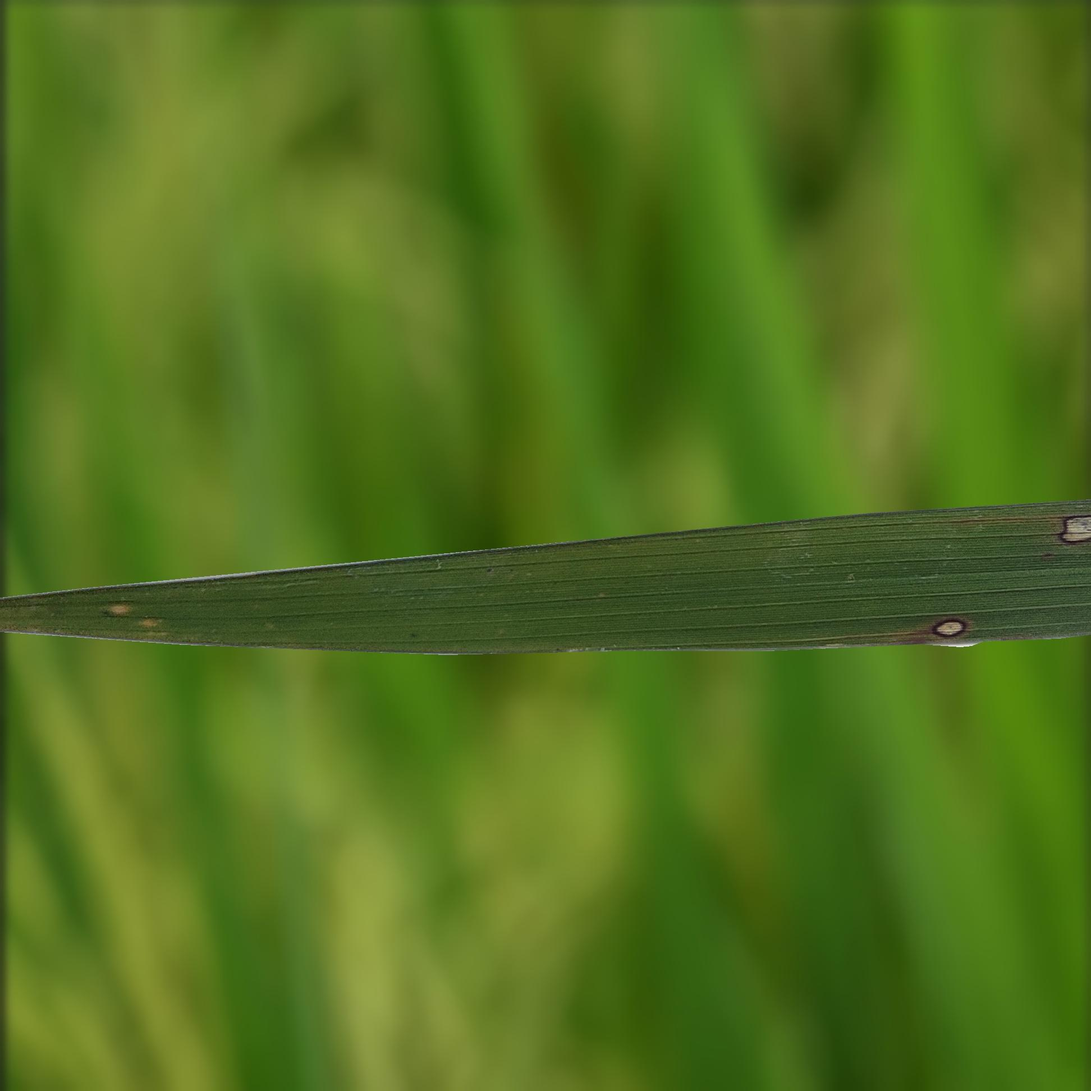LEAF BLAST: (1058, 515, 1090, 544), (930, 618, 968, 639)
